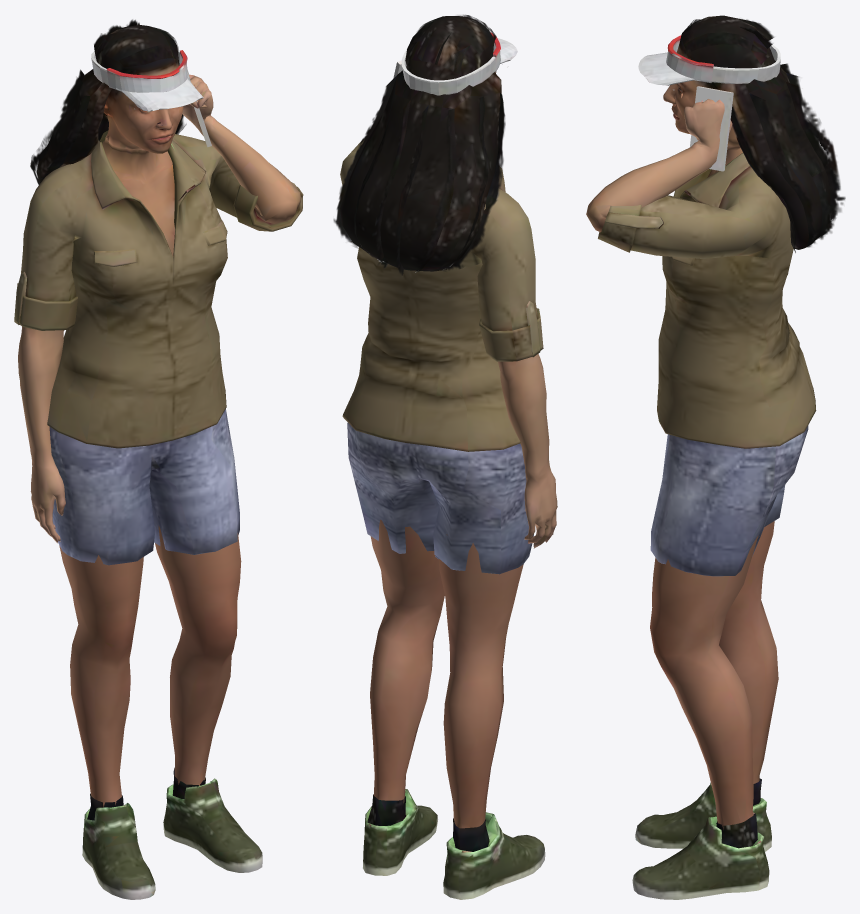
The picture shows the model from 3 angles, left to right: view 1: azimuth 30°, elevation 25°; view 2: azimuth 150°, elevation 25°; view 3: azimuth 270°, elevation 25°; orthographic projection. The views are drawn at different scales.
Parts seen in each view (by area): view 1: p01942; view 2: p01942; view 3: p01942.
Part boxes in pixels (x1,y1,x2,y2): p01942: [14, 19, 303, 899]; p01942: [333, 15, 557, 899]; p01942: [586, 15, 845, 899].
Size of the model in its own units: 0.451 by 1.71 by 0.4779.
1 material, 1 textured.
